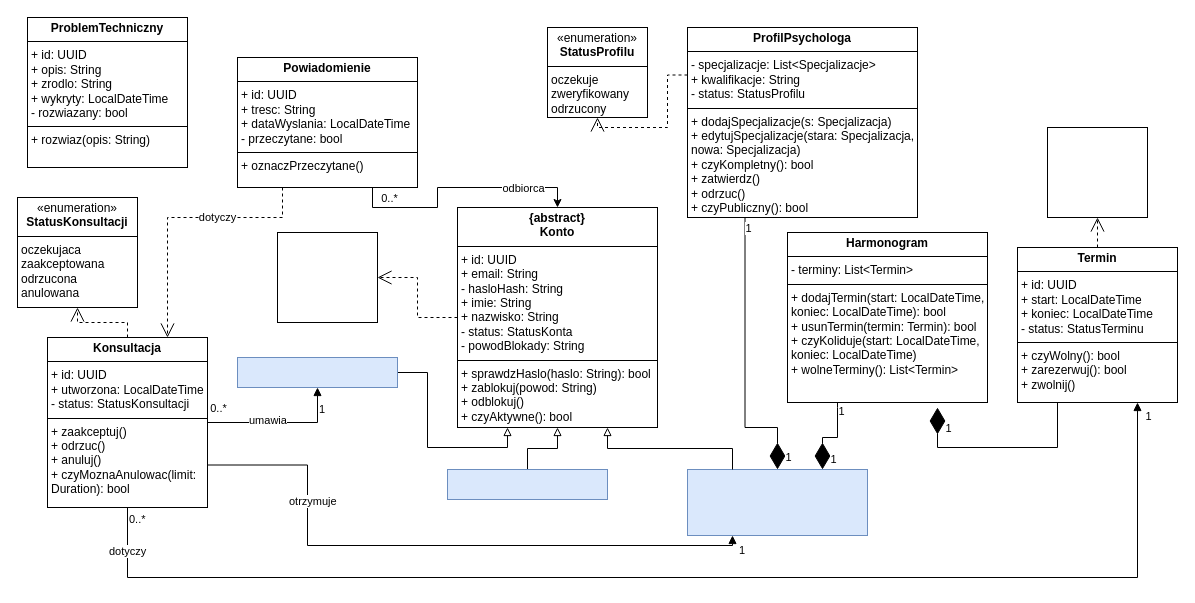
This 1195x603 diagram has some shape labels left out. Here are the shapes that lost their labels. From the top down, the centre of each, then its label:
point (1097, 172): «enumeration» StatusTerminu wolny zarezerwowany
point (327, 277): «enumeration» StatusKonta aktywne zablokowane
point (317, 372): Użytkownik
point (527, 484): Administrator
point (777, 502): Psycholog - profil: ProfilPsychologa - harmonogram: Harmonogram
